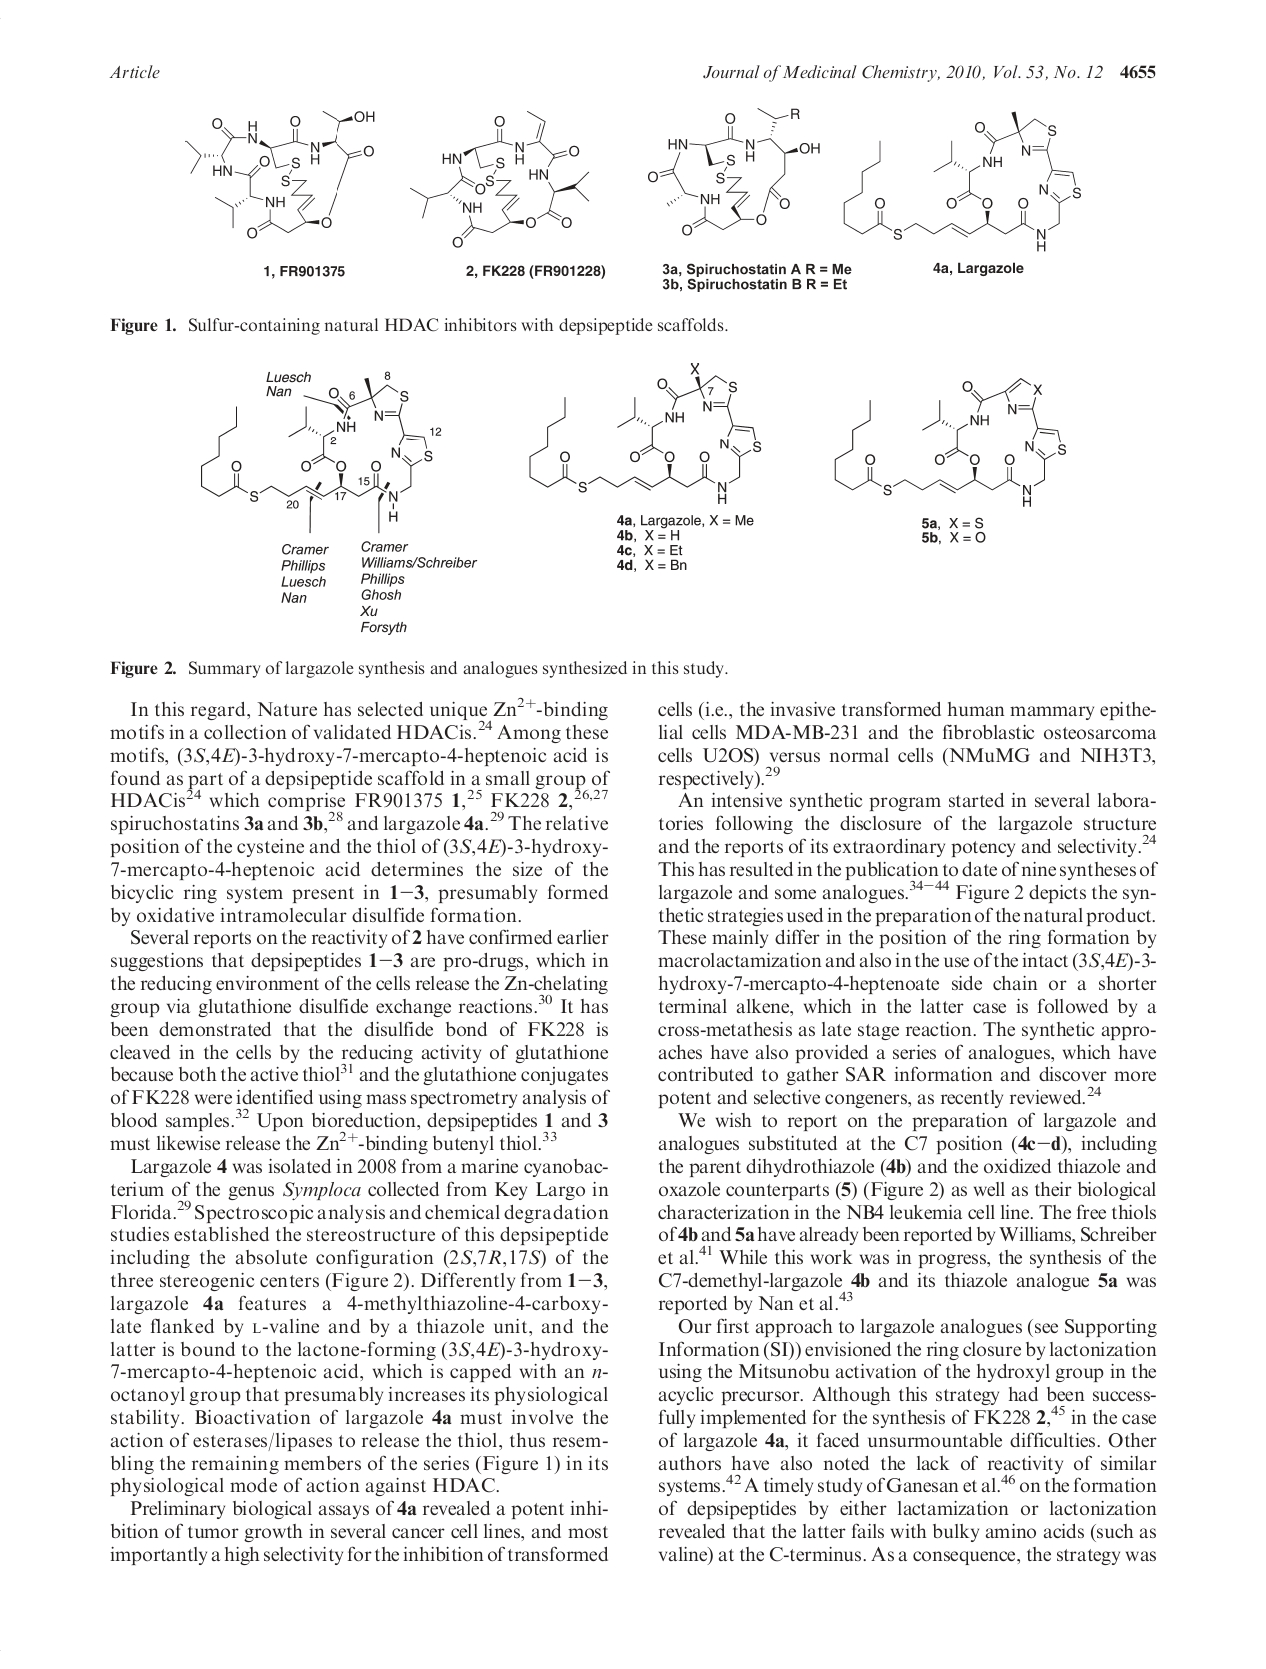exist_molecular: (199, 364, 445, 536), (842, 110, 1082, 255), (527, 358, 765, 503), (831, 375, 1069, 509), (185, 108, 378, 239), (410, 110, 592, 249), (648, 108, 824, 239)
